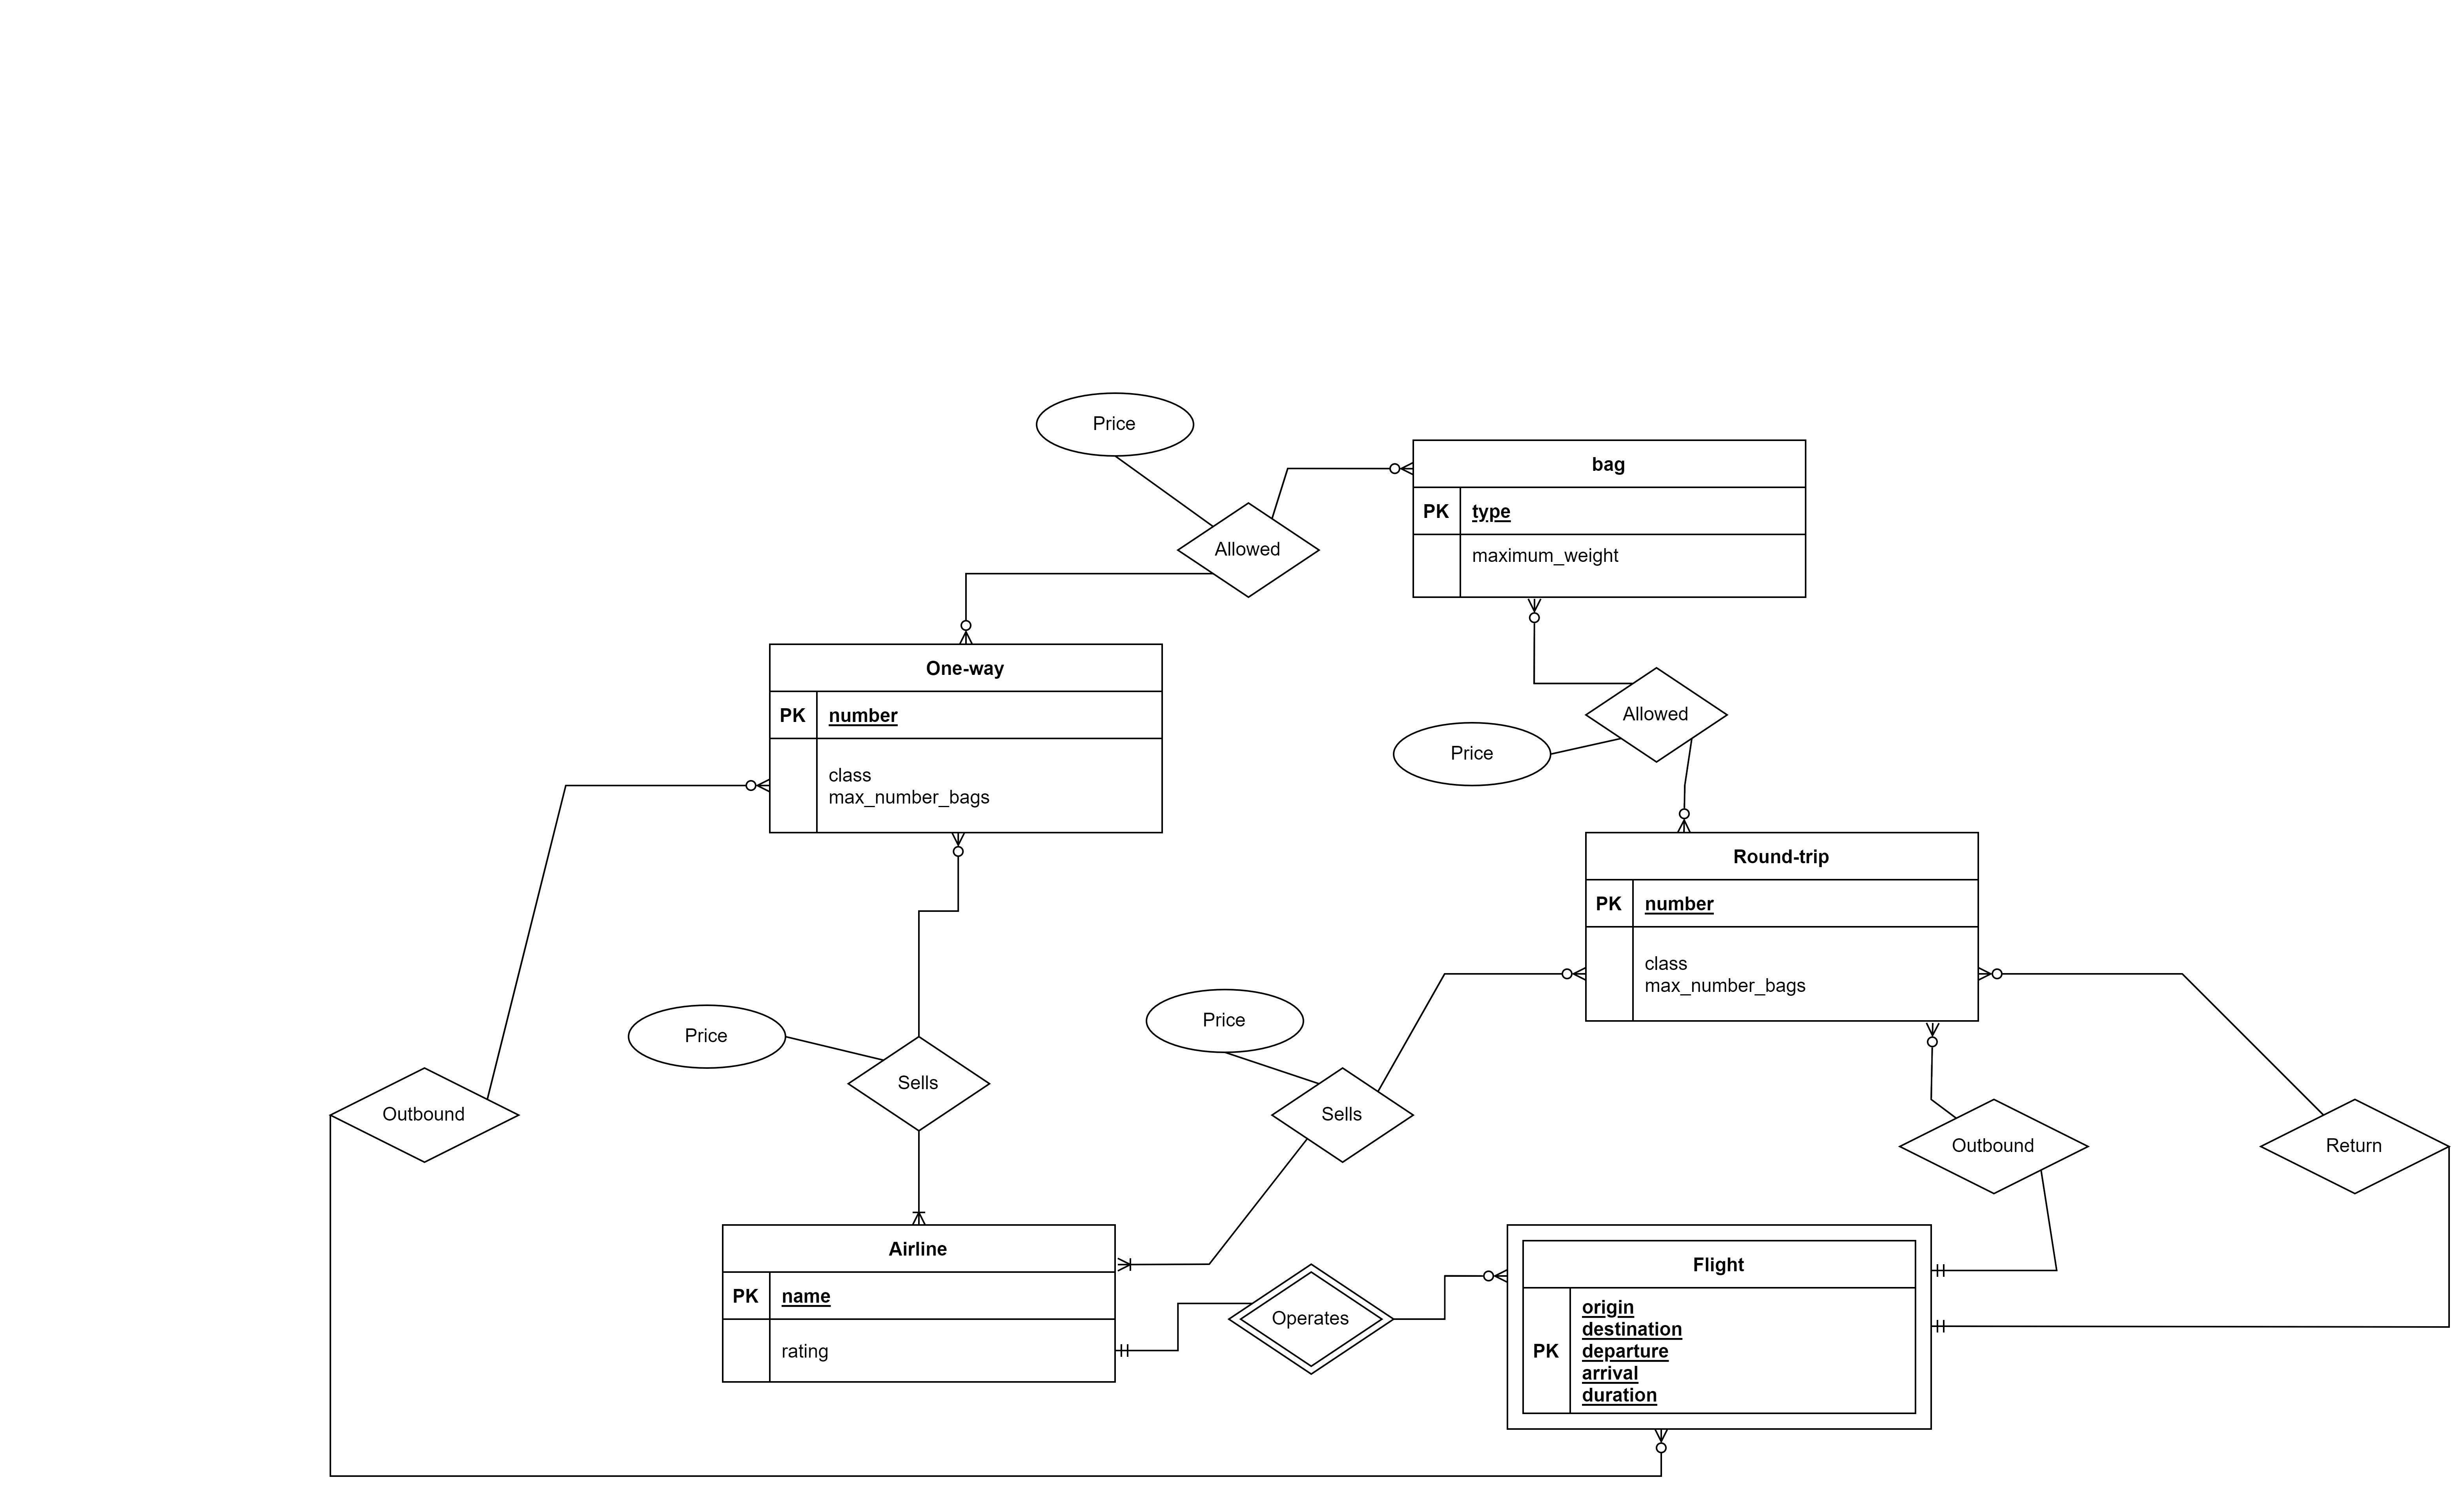attribute: (1144, 989, 1304, 1054), (625, 1007, 787, 1070), (1390, 722, 1551, 785), (1037, 394, 1193, 458)
entity: (1584, 829, 1985, 1025), (766, 646, 1163, 840), (1408, 431, 1811, 604), (720, 1223, 1119, 1385)
relationship: (1903, 1100, 2087, 1197), (329, 1069, 516, 1164), (2260, 1104, 2445, 1194), (1174, 505, 1322, 597), (1586, 671, 1730, 764), (850, 1037, 984, 1135), (1271, 1069, 1406, 1160)
weakentity: (1501, 1222, 1938, 1433)
weakrelationship: (1232, 1269, 1392, 1373)
